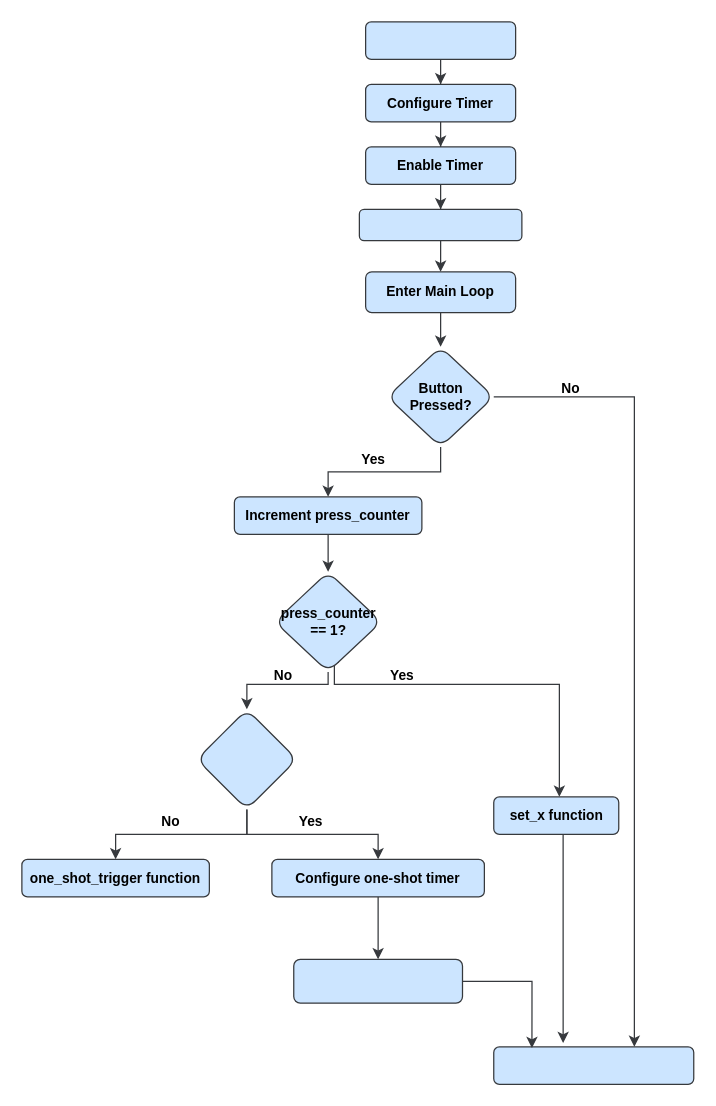
This 716x1106 diagram has some shape labels left out. Each missing label, with the centre of its shape:
Clear button_pressed flag: point 593,1065
Initialise GPIO Button: point 440,224
Initialise System: point 440,40
press_counter == 2?: point 246,758
Reset press_counter: point 377,980
